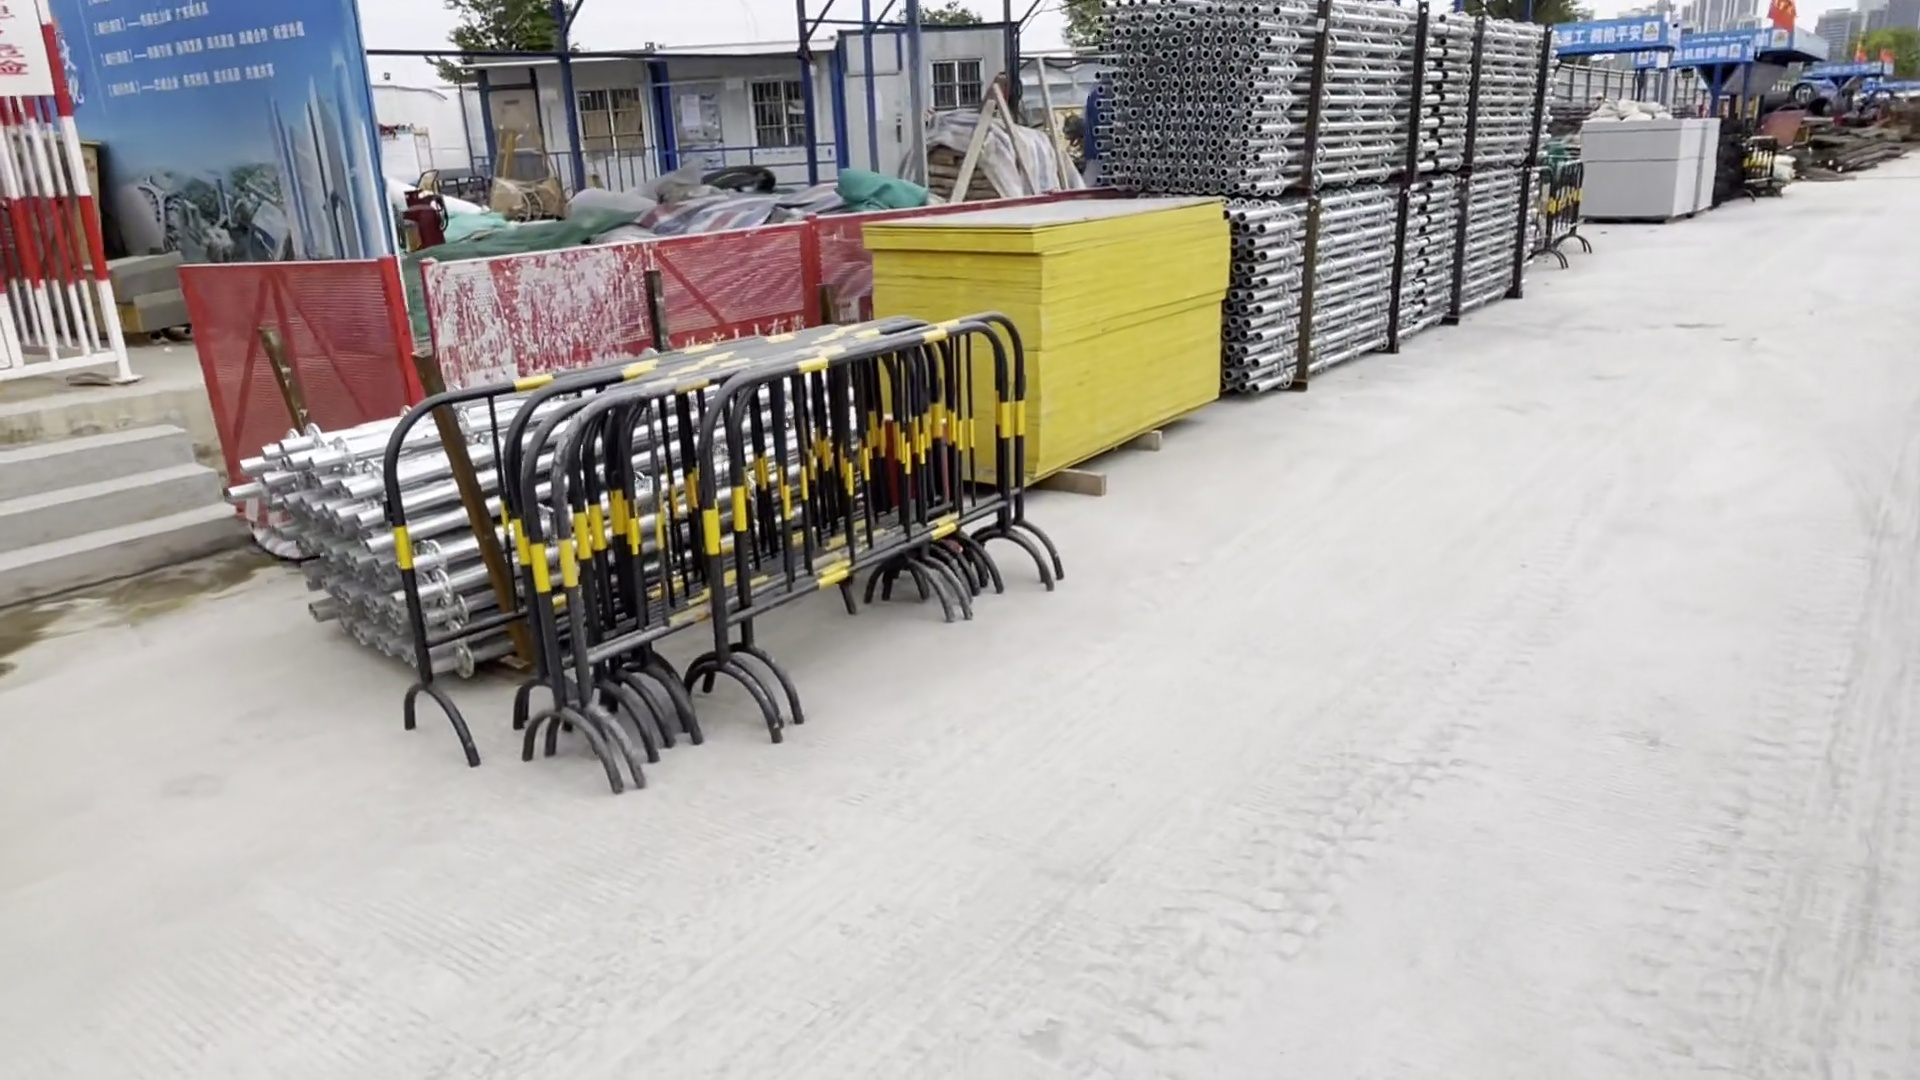board: (862, 193, 1244, 480)
brick: (1578, 120, 1716, 224)
fence: (406, 327, 1059, 756), (411, 218, 819, 352), (167, 245, 423, 440)
scaffold: (233, 385, 547, 678), (1084, 1, 1556, 179), (1229, 189, 1545, 389)
slogan: (1555, 24, 1663, 50)
